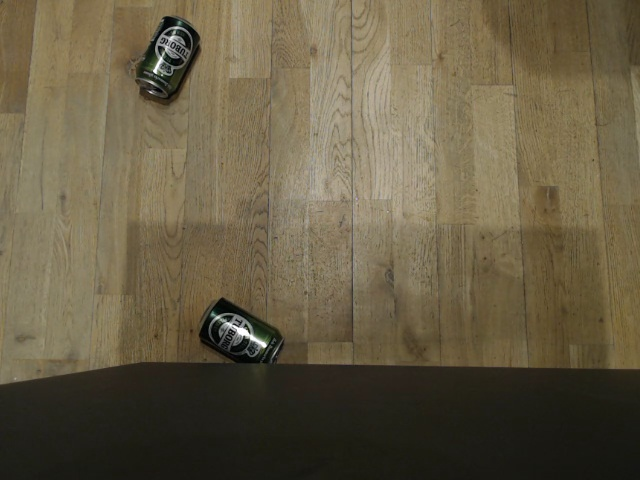beer: (132, 13, 202, 100), (195, 296, 285, 363)
